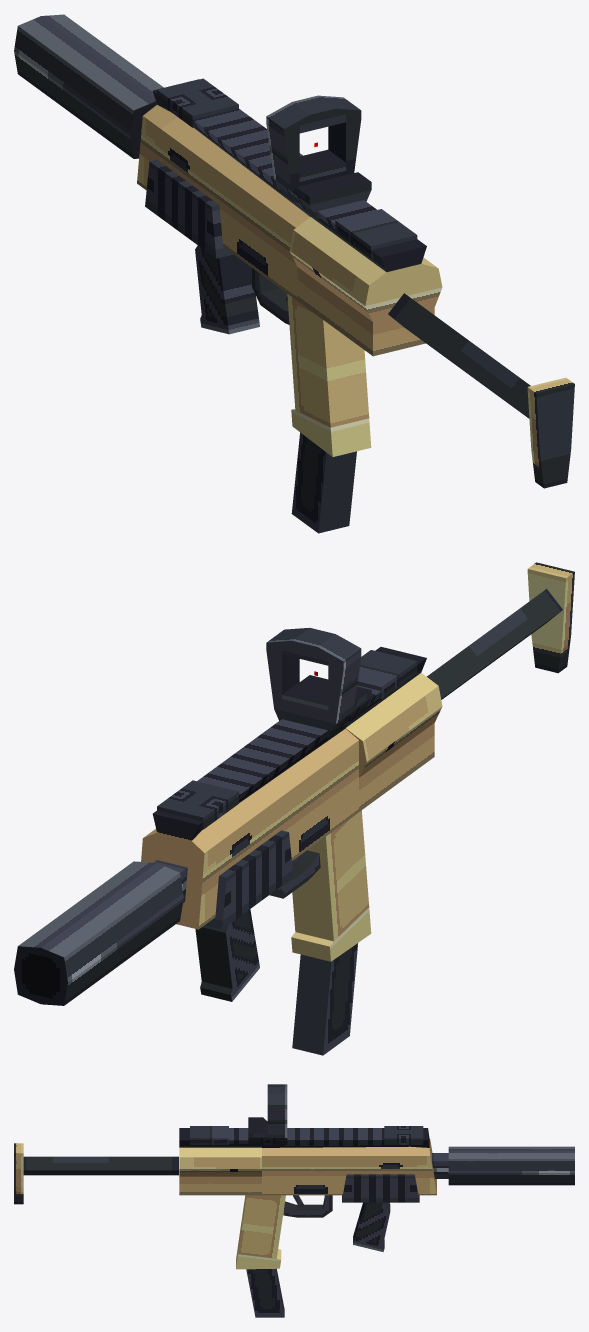
The picture shows the model from 3 angles, top to bottom: view 1: azimuth 30°, elevation 25°; view 2: azimuth 150°, elevation 25°; view 3: azimuth 270°, elevation 25°; orthographic projection. The views are drawn at different scales.
Parts seen in each view (by area): view 1: cube (×17), cube_selection; view 2: cube (×16), cube_selection; view 3: cube (×16).
Boxes of the visible parts, x1,y1,x2,y2 form: cube (×17): (14,14,574,533); cube_selection: (274,179,371,219); cube (×16): (14,562,574,1055); cube_selection: (274,698,371,738); cube (×16): (14,1084,574,1317).
Bounding box in the file's own units: 0.3125 × 1.58 × 3.61.
Materials: 3 (3 with a texture image).
